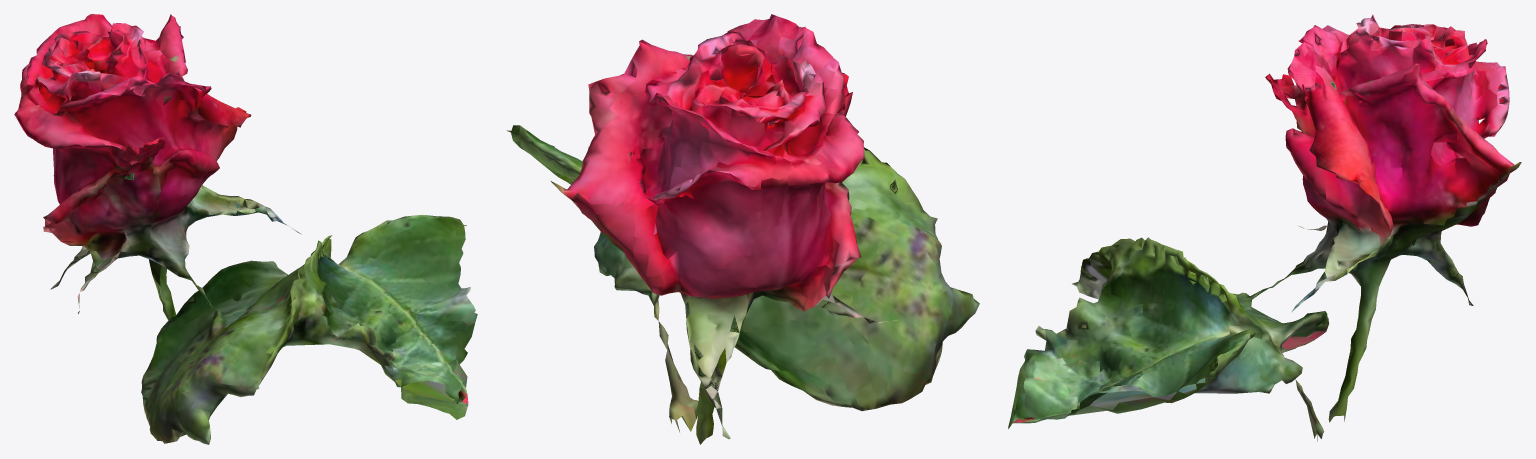
The picture shows the model from 3 angles, left to right: view 1: azimuth 30°, elevation 25°; view 2: azimuth 150°, elevation 25°; view 3: azimuth 270°, elevation 25°; orthographic projection. The views are drawn at different scales.
Visible parts, largest first — view 1: fba071e7; view 2: fba071e7; view 3: fba071e7.
Boxes of the visible parts, x1=… form: fba071e7: x1=14, y1=14, x2=477, y2=444; fba071e7: x1=506, y1=14, x2=979, y2=444; fba071e7: x1=1008, y1=14, x2=1521, y2=441.
Bounding box in the file's own units: 0.0723 × 0.0683 × 0.0845.
Materials: 1 (1 with a texture image).
